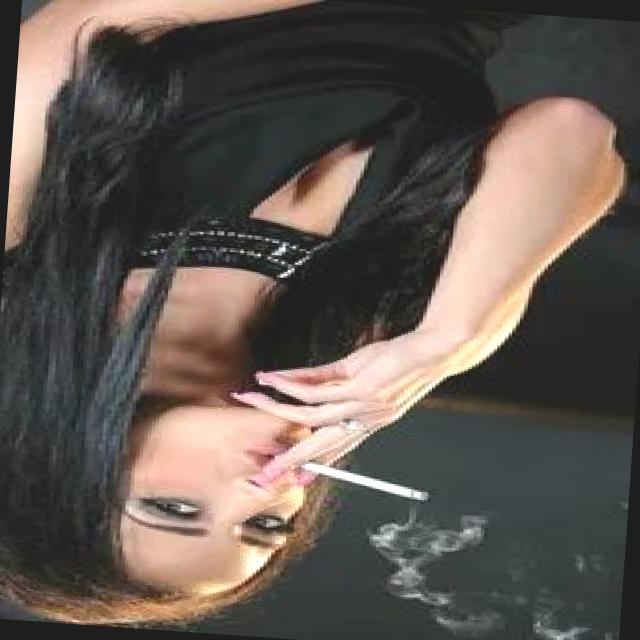cigarette: (288, 448, 434, 506)
